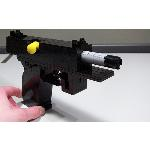Pistol: (6, 29, 124, 111)
